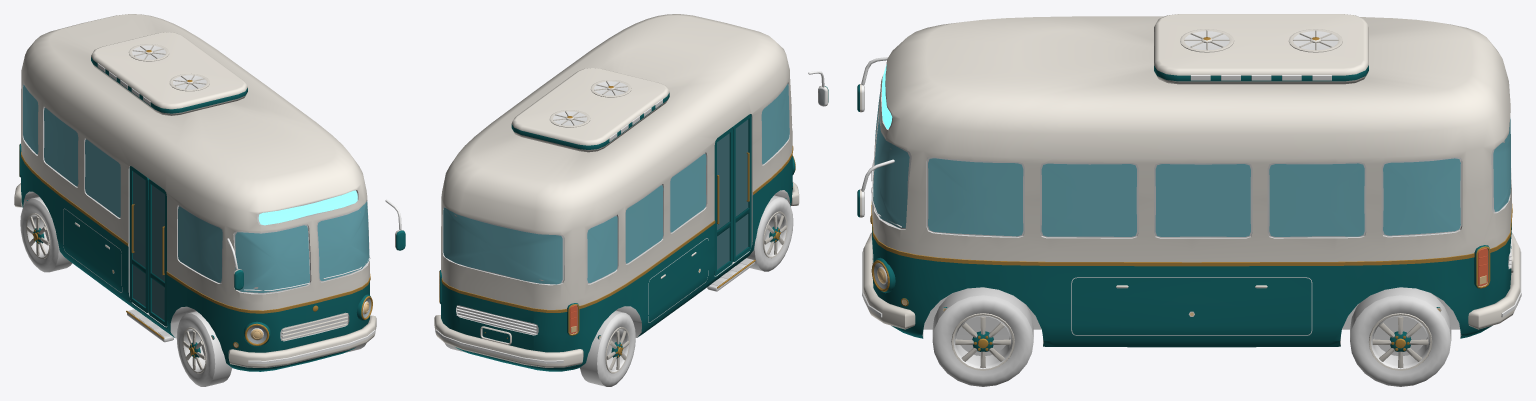
The model's file is convoy_shuttle.fbx.
3 views of the same model, side by side, from view 1: azimuth 30°, elevation 25°; view 2: azimuth 150°, elevation 25°; view 3: azimuth 270°, elevation 25° (orthographic). The views are drawn at different scales.
Parts seen in each view (by area): view 1: Body, Wheel_FR, Wheel_RR; view 2: Body, Wheel_RR, Wheel_FR; view 3: Body, Wheel_FL, Wheel_RL.
Boxes of the visible parts, <box> form: Body: <box>14,14,405,371</box>; Wheel_FR: <box>176,311,232,386</box>; Wheel_RR: <box>20,197,72,272</box>; Body: <box>434,14,828,371</box>; Wheel_RR: <box>580,310,635,386</box>; Wheel_FR: <box>747,195,793,271</box>; Body: <box>857,14,1521,347</box>; Wheel_FL: <box>932,287,1033,386</box>; Wheel_RL: <box>1350,287,1451,386</box>.
Size of the model in its own units: 2.09 by 2.6 by 5.25.
